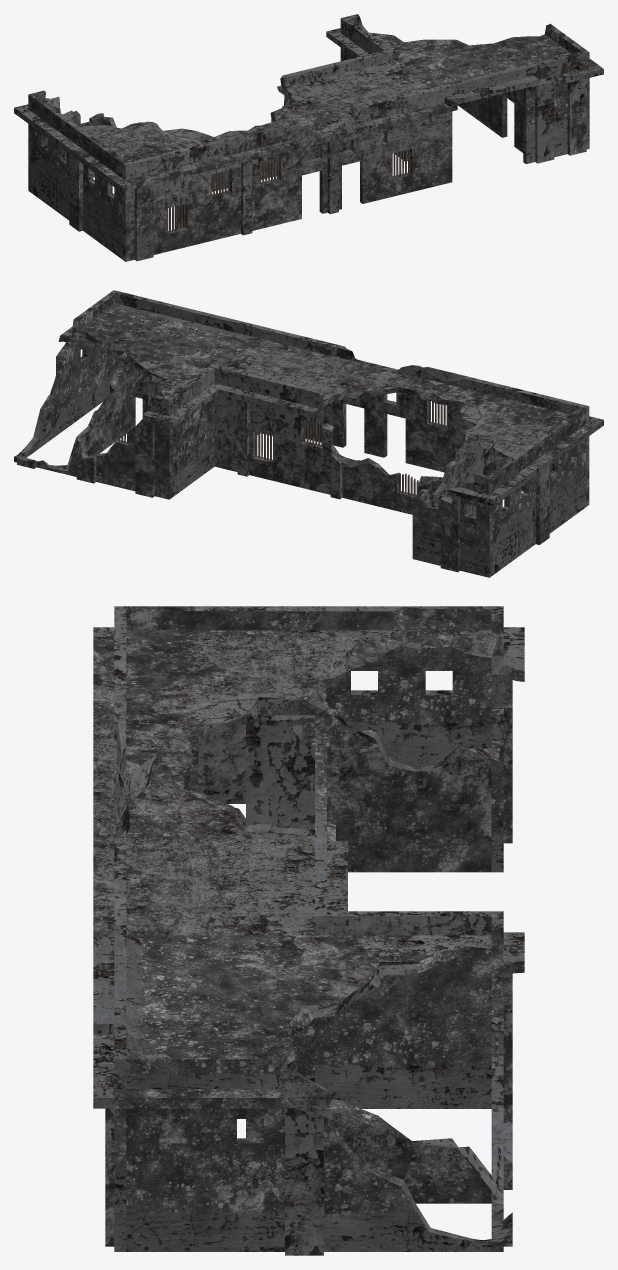
Rendered from nha lao.fbx.
3 renders of one model, top to bottom at view 1: azimuth 30°, elevation 25°; view 2: azimuth 150°, elevation 25°; view 3: azimuth 270°, elevation 25°, orthographic. The views are drawn at different scales.
Parts seen in each view (by area): view 1: cube.047, cube.031, cube.029, cube.032, cube.055, cube.001, cube.030, cube.018, cube.007, cube.004, cube.043, cube.042 (+20 smaller); view 2: cube.052, cube.031, cube.029, cube.047, cube.055, cube.008, cube.054, cube.032, cube.050, cube.030, cube.016, cube.051 (+24 smaller); view 3: cube.031, cube.008, cube.029, cube.051, cube.053, cube.030, cube.055, cube.016, cube.007, cube.012, cube.001, cube.045 (+20 smaller).
Part boxes in pixels (x1,y1,x2,y2): cube.047: (122, 111, 452, 261); cube.031: (146, 61, 429, 148); cube.029: (359, 25, 571, 88); cube.032: (122, 84, 452, 180); cube.055: (31, 126, 122, 259); cube.001: (116, 103, 457, 191); cube.030: (43, 102, 182, 161); cube.018: (523, 78, 589, 163); cube.007: (31, 95, 127, 177); cube.004: (134, 184, 153, 261); cube.043: (535, 86, 554, 163); cube.042: (567, 78, 586, 155); cube.052: (214, 395, 443, 514); cube.031: (223, 339, 513, 438); cube.029: (77, 303, 260, 397); cube.047: (305, 381, 589, 506); cube.055: (492, 438, 586, 575); cube.008: (17, 336, 115, 457); cube.054: (412, 495, 492, 577); cube.032: (251, 324, 589, 423); cube.050: (14, 423, 172, 499); cube.030: (463, 400, 570, 467); cube.016: (67, 352, 135, 464); cube.051: (172, 398, 214, 496); cube.031: (126, 693, 314, 935); cube.008: (126, 1102, 491, 1251); cube.029: (126, 935, 491, 1073); cube.051: (315, 958, 491, 1108); cube.053: (315, 704, 491, 872); cube.030: (126, 630, 491, 704); cube.055: (198, 646, 491, 803); cube.016: (246, 1060, 491, 1203); cube.007: (126, 606, 491, 630); cube.012: (246, 715, 314, 829); cube.001: (93, 627, 114, 936); cube.045: (285, 1107, 323, 1255).
Size of the model in its own units: 2325 by 444 by 900.
2 materials, 2 textured.
